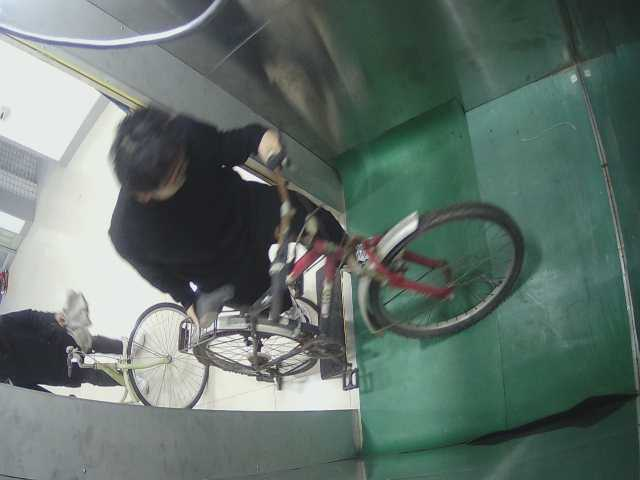bicycle: (175, 160, 525, 394), (61, 300, 212, 412)
person: (102, 107, 356, 312)
